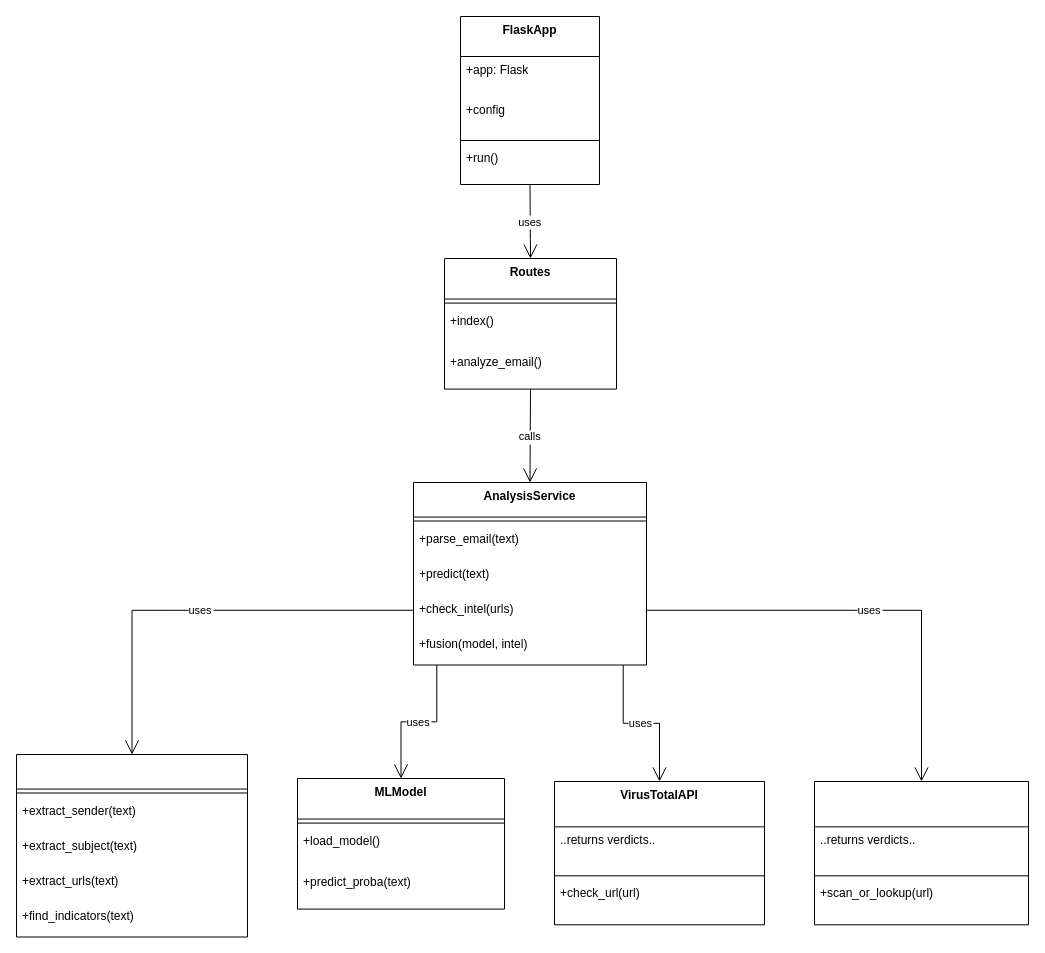
Image size: 1045x953. Some labels were removed from this diagram. The shapes that lost their labels are listed below. From the top down, each one's box as (x1, y1, x2, y2) in pixels, then its label:
(16, 754, 248, 937): EmailParser
(814, 780, 1028, 925): UrlscanAPI
